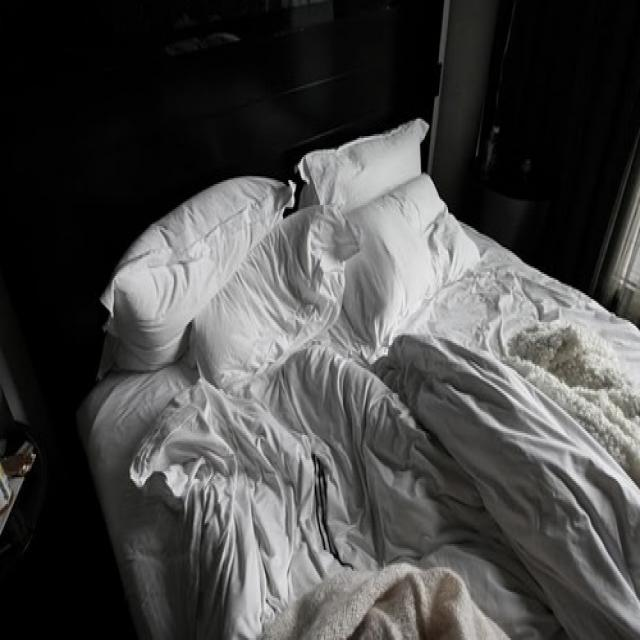bed: (87, 143, 640, 640)
